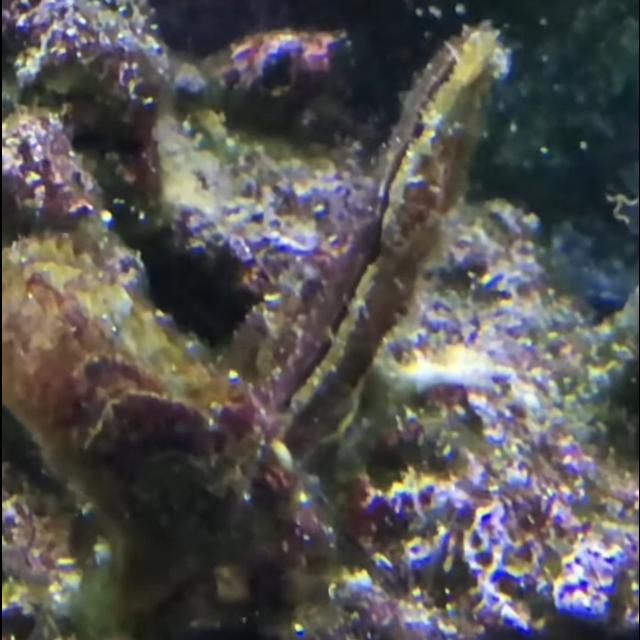Oyster-Closed: (223, 21, 509, 463), (0, 240, 302, 596)
